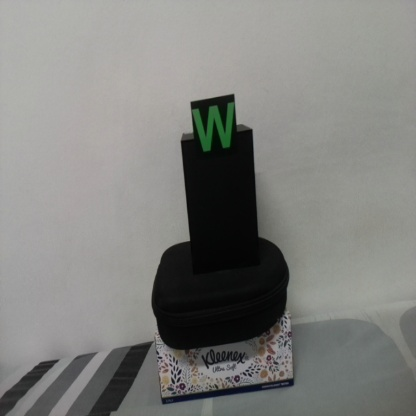id_12: (190, 101, 239, 158)
